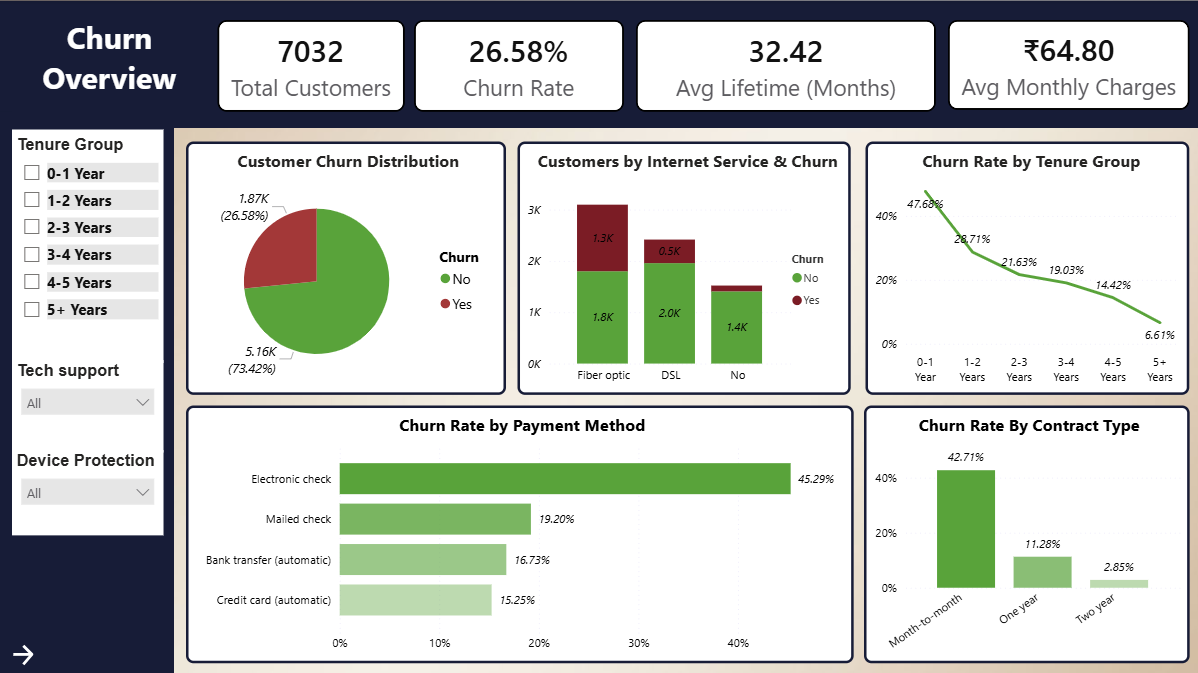

What the dashboard file says about the page in this screenshot:
{"tool":"powerbi","page":{"name":"Churn Overview","canvas":[1280,720],"ordinal":0},"visuals":[{"type":"shape","box":[0,1.6,1280.4,135.2],"z":0},{"type":"shape","box":[0,119.3,187.7,601.3],"z":1000},{"type":"cardVisual","fields":{"Data":["Cleaned_Dataset.Churn Rate"]},"box":[442.2,22.3,222.7,97],"z":2000},{"type":"cardVisual","fields":{"Data":["Cleaned_Dataset.Total Customers"]},"box":[233.8,22.3,198.8,97],"z":3000},{"type":"cardVisual","fields":{"Data":["Cleaned_Dataset.Average Tenure"]},"box":[677.6,22.3,318.1,97],"z":4000},{"type":"cardVisual","fields":{"Data":["Cleaned_Dataset.Avg Monthly Charges"]},"box":[1008.4,22.3,256.1,95.4],"z":5000},{"type":"pieChart","title":"Customer Churn Distribution","fields":{"Category":["Cleaned_Dataset.Churn"],"Y":["CountNonNull(Cleaned_Dataset.customerID)"]},"box":[201,151.1,339,268.8],"z":6000},{"type":"columnChart","title":"Churn Rate By Contract Type","fields":{"Category":["Cleaned_Dataset.Contract"],"Y":["Cleaned_Dataset.Churn Rate"]},"box":[919.4,431.1,345.2,273.6],"z":7000},{"type":"barChart","title":"Churn Rate by Payment Method","fields":{"Category":["Cleaned_Dataset.PaymentMethod"],"Y":["Cleaned_Dataset.Churn Rate"]},"box":[200.4,431.1,707.8,273.6],"z":8000},{"type":"columnChart","title":"Customers by Internet Service & Churn","fields":{"Category":["Cleaned_Dataset.InternetService"],"Series":["Cleaned_Dataset.Churn"],"Y":["CountNonNull(Cleaned_Dataset.customerID)"]},"box":[552,151.1,353.1,268.8],"z":9000},{"type":"lineChart","title":"Churn Rate by Tenure Group","fields":{"Category":["Cleaned_Dataset.Tenure_Group"],"Y":["Cleaned_Dataset.Churn Rate"]},"box":[921,151.1,343.6,268.8],"z":10000},{"type":"slicer","title":"Tech support","fields":{"Values":["Cleaned_Dataset.TechSupport"]},"box":[15.9,383.3,160.7,97],"z":11000},{"type":"slicer","title":"Device Protection","fields":{"Values":["Cleaned_Dataset.DeviceProtection"]},"box":[15.9,478.8,160.7,90],"z":13000},{"type":"slicer","title":"Tenure Group","fields":{"Values":["Cleaned_Dataset.Tenure_Group"]},"box":[15.9,138.4,160.7,247],"z":14000},{"type":"textbox","title":"Churn Overview","box":[15.9,11.1,206.8,119.3],"z":15000},{"type":"actionButton","box":[15.9,674.4,105,36.6],"z":16000}]}

Visuals, with their boxes in screenshot pixels (x1, y1, x2, y2), scaled from the page's 1280x720 canvas onto the 1198x673 screenshot:
shape: 0 1 1197 128
shape: 0 112 176 672
cardVisual - Cleaned_Dataset.Churn Rate: 414 21 622 112
cardVisual - Cleaned_Dataset.Total Customers: 219 21 405 112
cardVisual - Cleaned_Dataset.Average Tenure: 634 21 932 112
cardVisual - Cleaned_Dataset.Avg Monthly Charges: 944 21 1183 110
"Customer Churn Distribution" pieChart: 188 141 505 392
"Churn Rate By Contract Type" columnChart: 861 403 1184 659
"Churn Rate by Payment Method" barChart: 188 403 850 659
"Customers by Internet Service & Churn" columnChart: 517 141 847 392
"Churn Rate by Tenure Group" lineChart: 862 141 1184 392
"Tech support" slicer: 15 358 165 449
"Device Protection" slicer: 15 448 165 532
"Tenure Group" slicer: 15 129 165 360
"Churn Overview" textbox: 15 10 208 122
actionButton: 15 630 113 665
